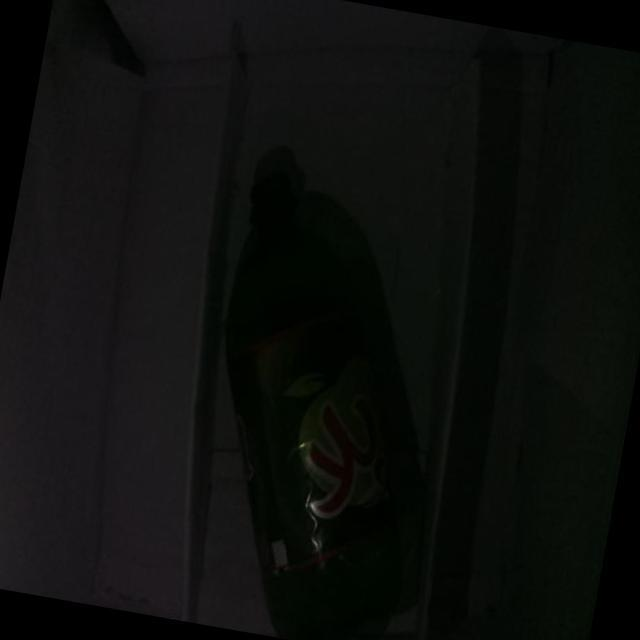good: (143, 113, 510, 640)
